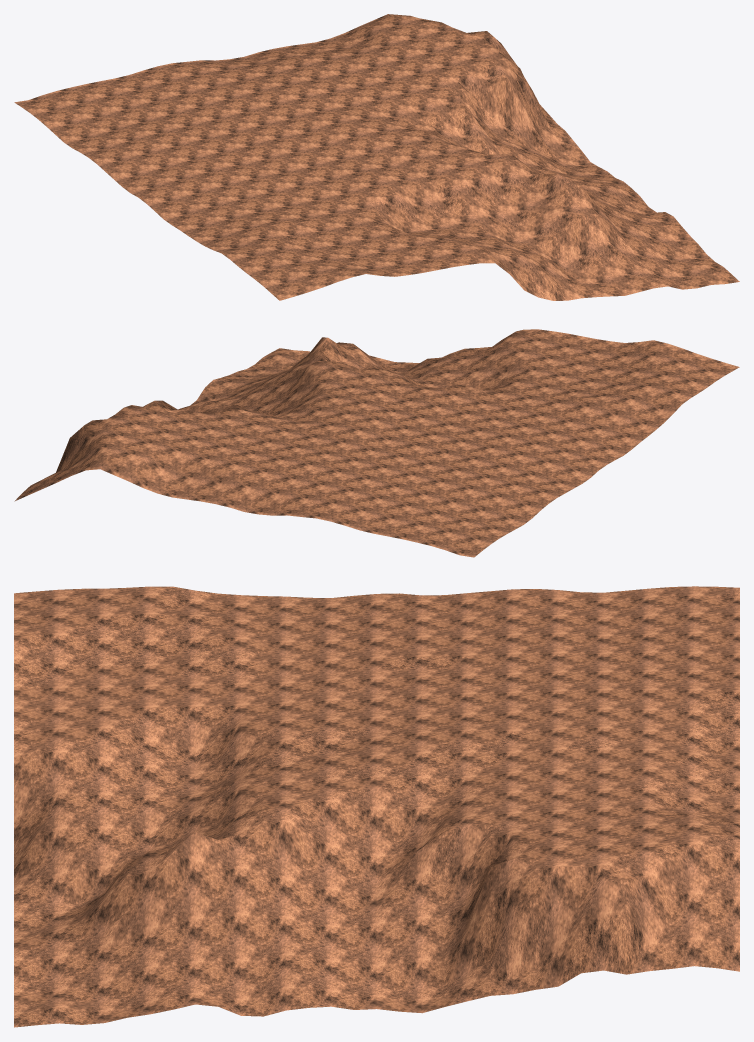
File: terrain_06_13.dae
The picture shows the model from 3 angles, top to bottom: view 1: azimuth 30°, elevation 25°; view 2: azimuth 150°, elevation 25°; view 3: azimuth 270°, elevation 25°; orthographic projection. The views are drawn at different scales.
Parts seen in each view (by area): view 1: terrain_06_13-node; view 2: terrain_06_13-node; view 3: terrain_06_13-node.
Boxes of the visible parts, <box> form: terrain_06_13-node: <box>14,14,739,300</box>; terrain_06_13-node: <box>14,329,739,557</box>; terrain_06_13-node: <box>14,586,739,1027</box>.
Size of the model in its own units: 128 by 128 by 26.45.
1 material, 1 textured.
